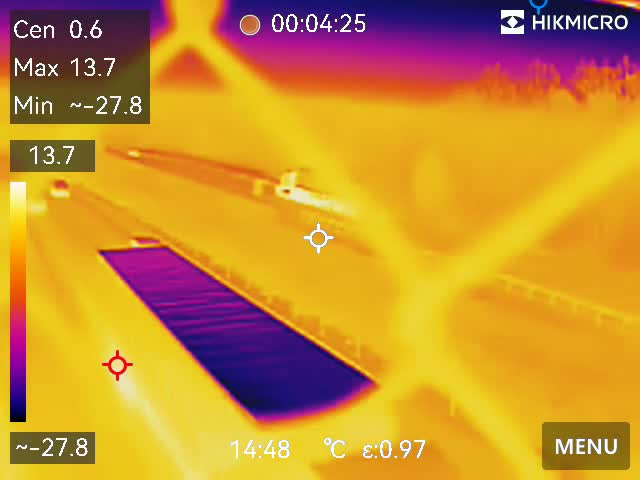heavyTruck: (82, 238, 411, 475), (277, 161, 392, 212)
vehicle: (44, 175, 75, 201)
